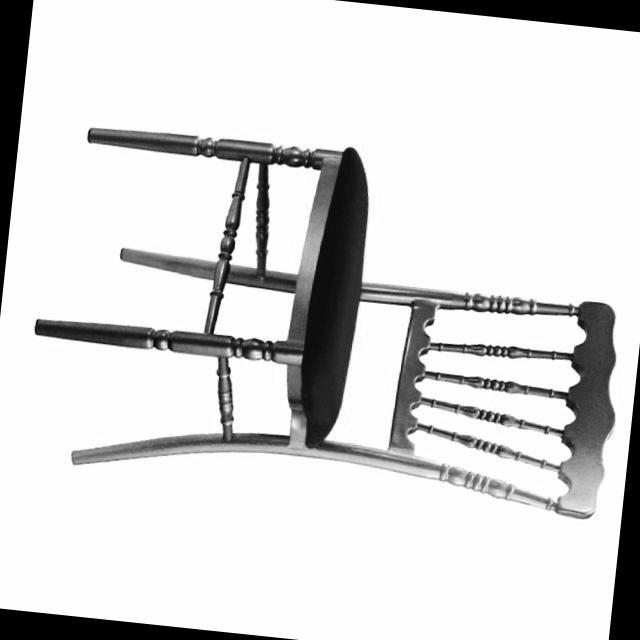chair: (19, 113, 639, 522)
